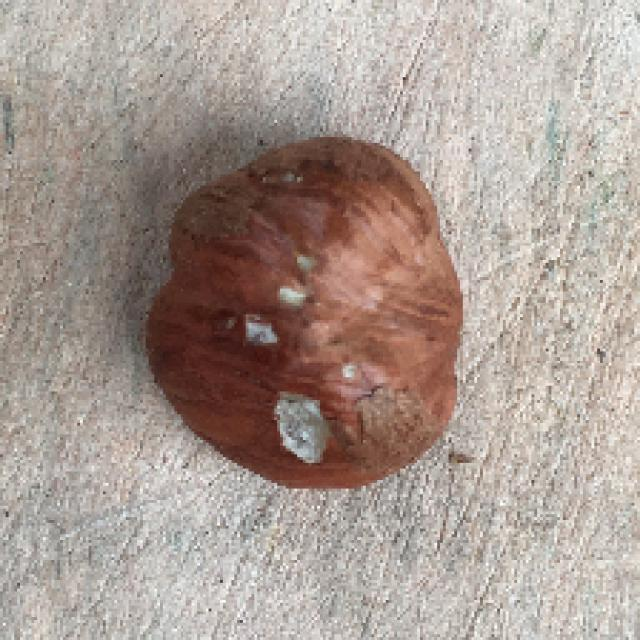hazelnut: (140, 136, 478, 499)
